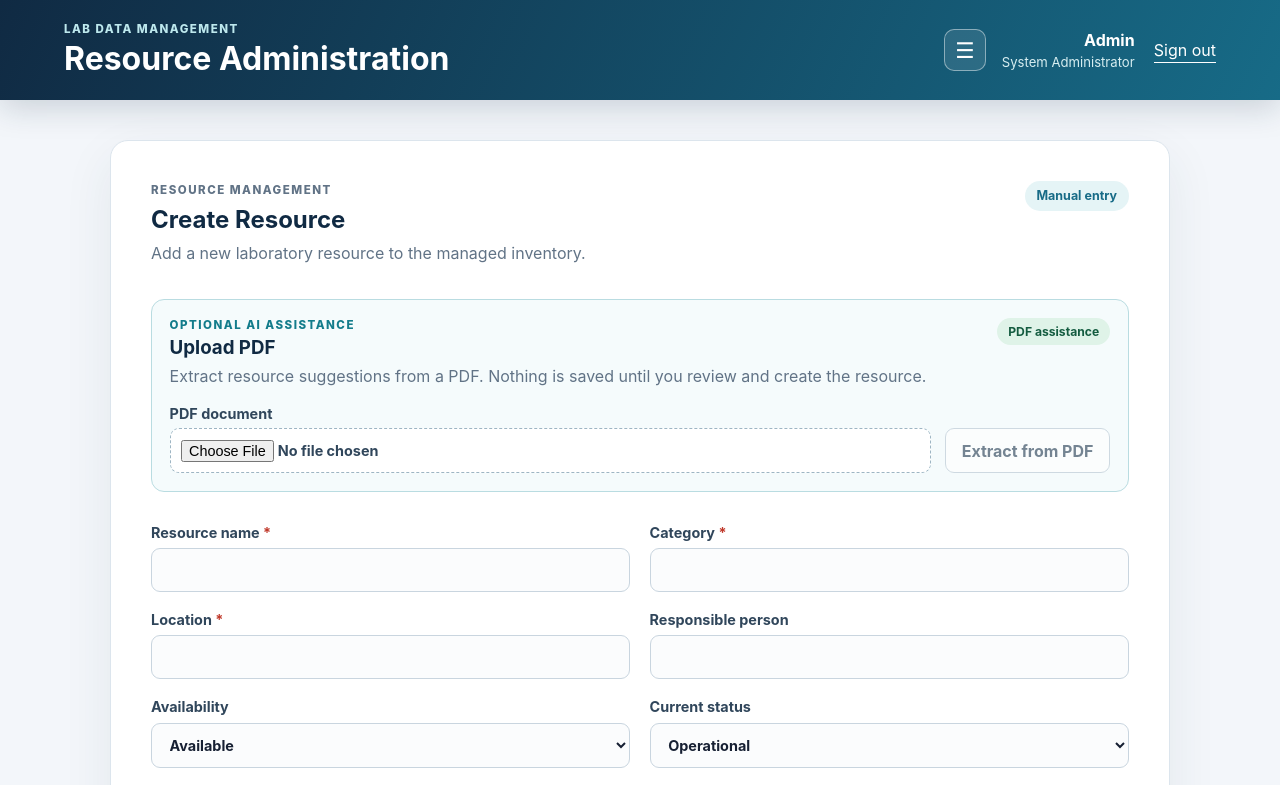
App authorization UI › lets an administrator open resource availability from navigation
Click the button named "open navigation": (965, 50) x1=944 y1=29 x2=986 y2=71
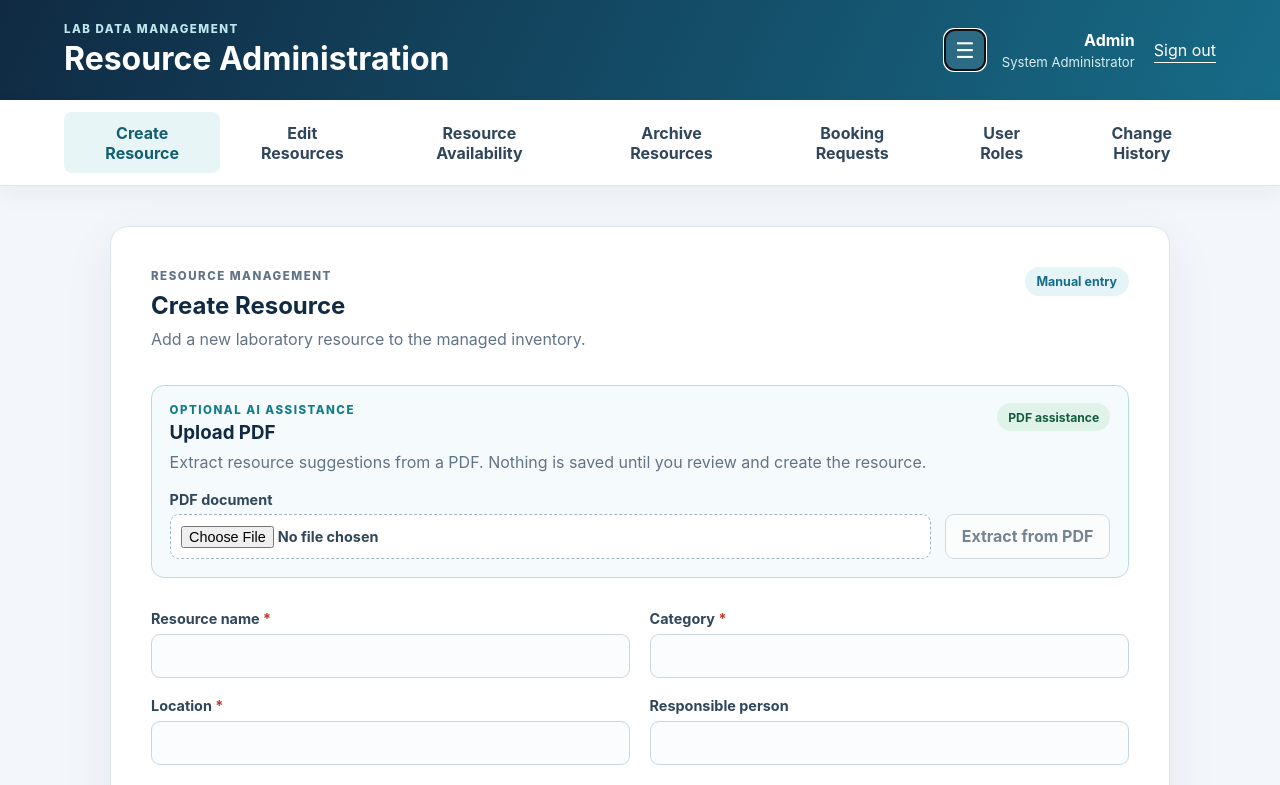
Click the button "Resource Availability": (479, 143) x1=384 y1=112 x2=574 y2=173
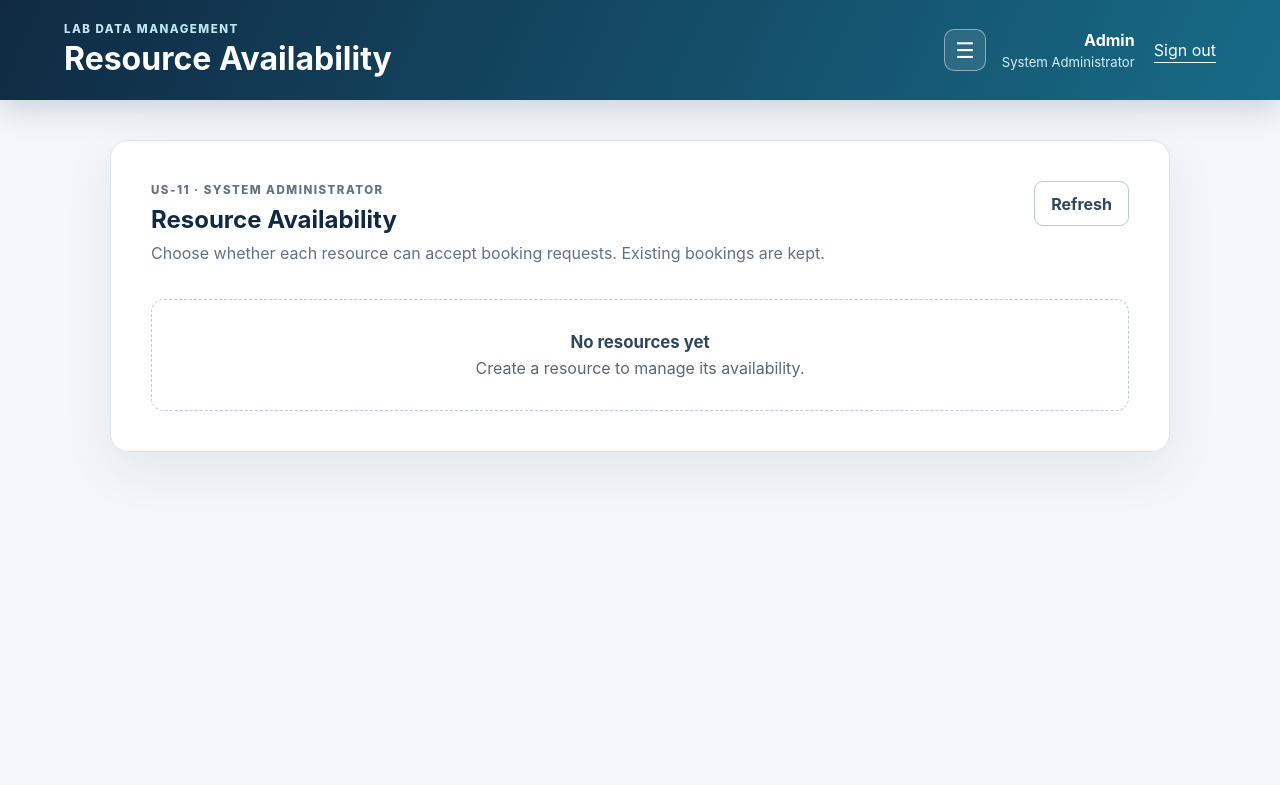
Expected: the heading "Resource Availability" below "US-11 · System administrator" is shown, x1=151 y1=205 x2=397 y2=234
Expected: the text "No resources yet" is shown, x1=570 y1=332 x2=710 y2=352
Expected: the button "Create Resource" is gone
